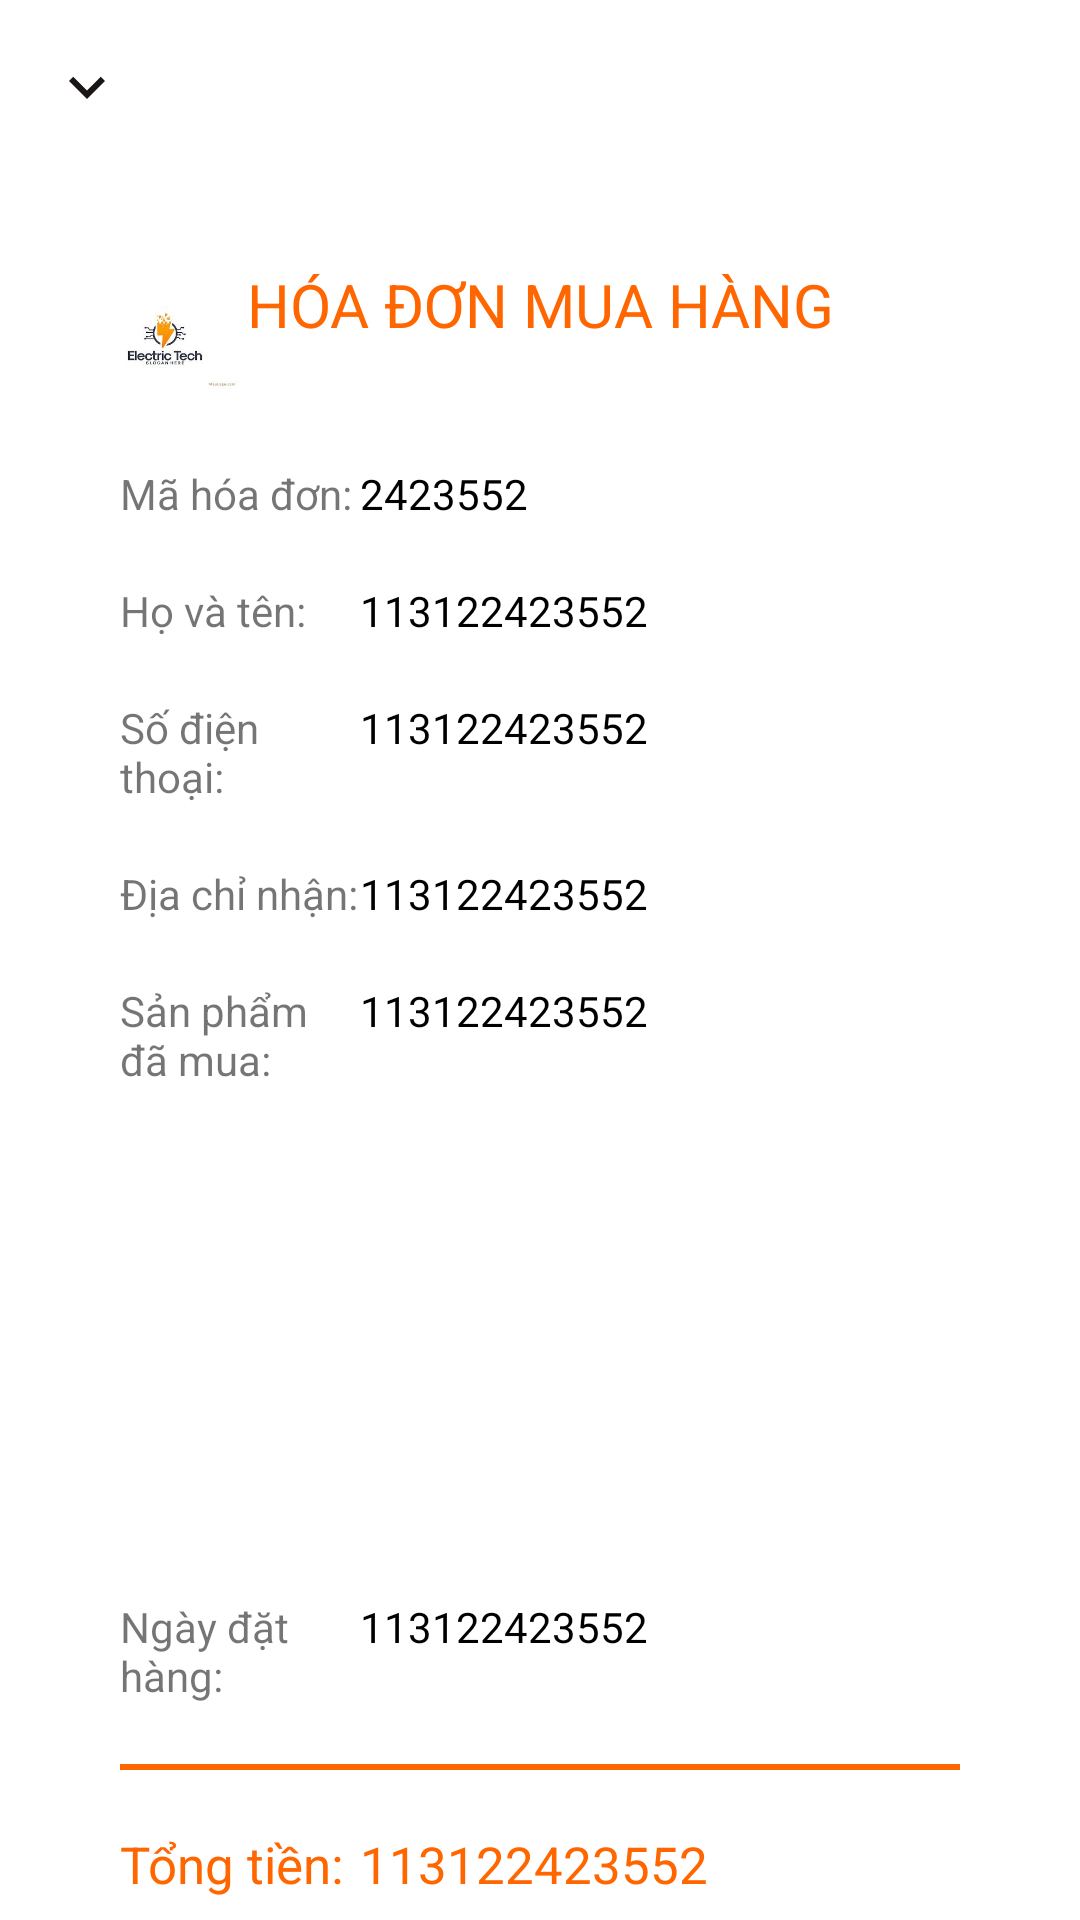

Where icons sit on this 1080×1920 app screen, as {"left": x1, "top": y1, "right": x2, "bottom": y2}:
expand more: {"left": 69, "top": 77, "right": 105, "bottom": 99}
